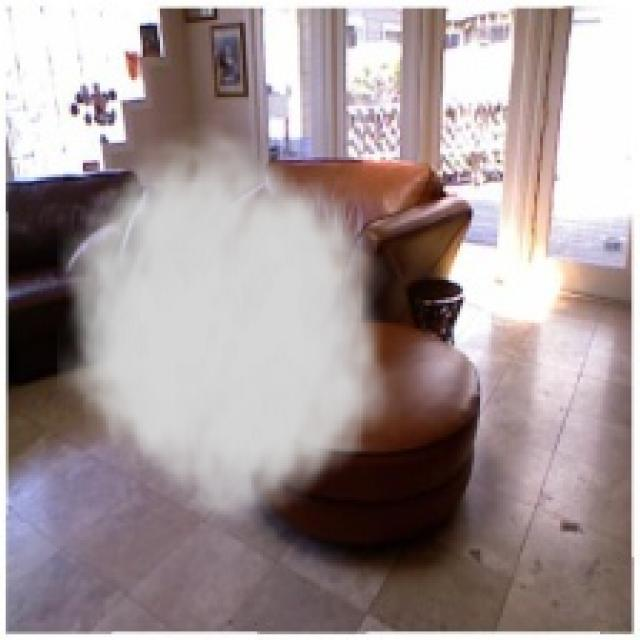smoke: (57, 114, 403, 537)
